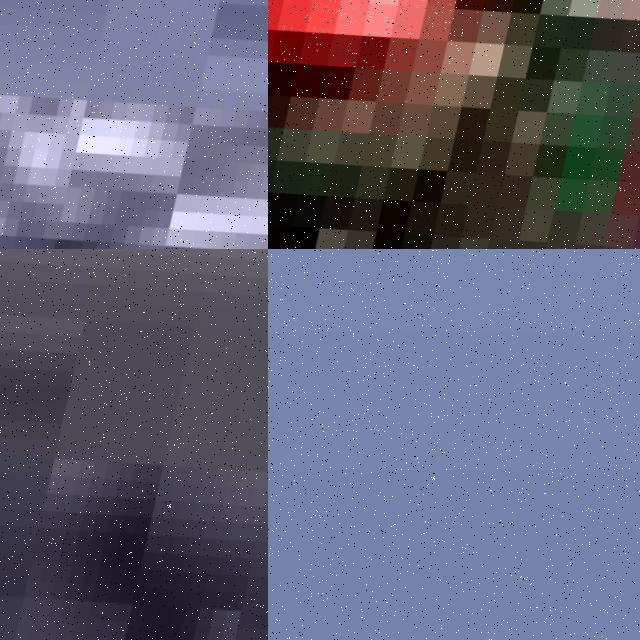0: (0, 249, 268, 640), (0, 0, 268, 249)
drone: (268, 0, 640, 249)
